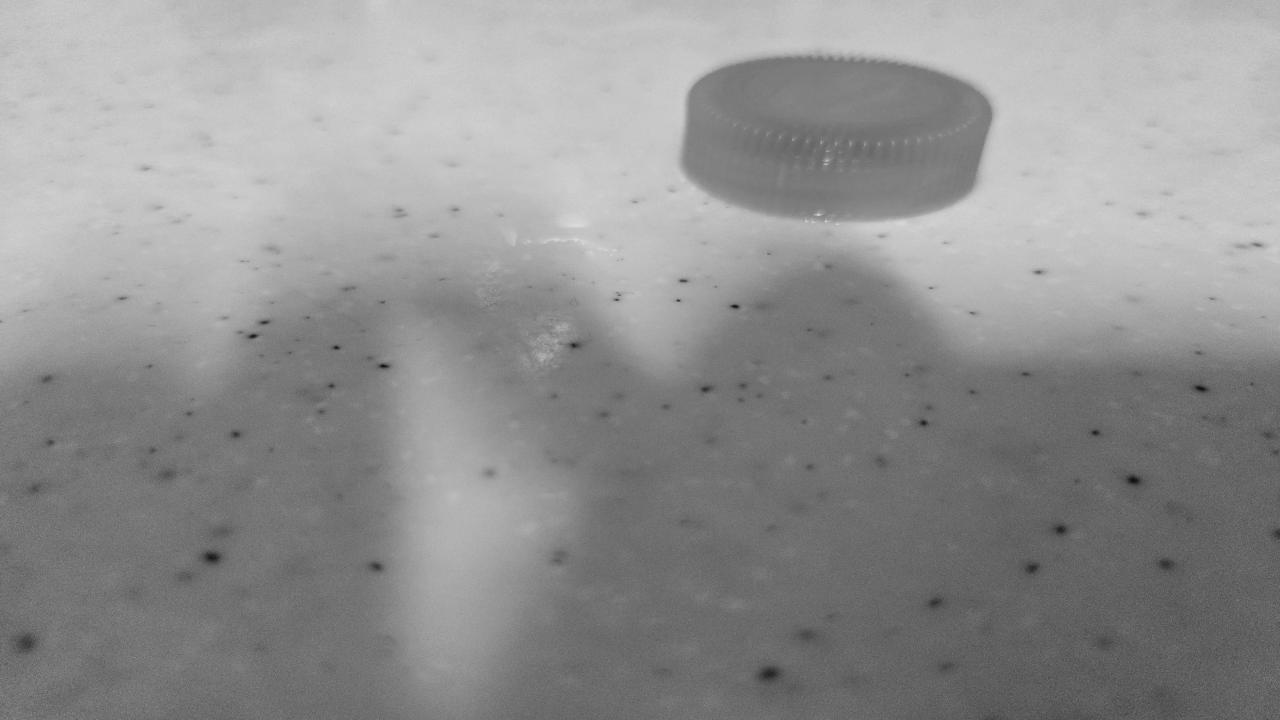bottle_cap: (677, 53, 999, 225)
